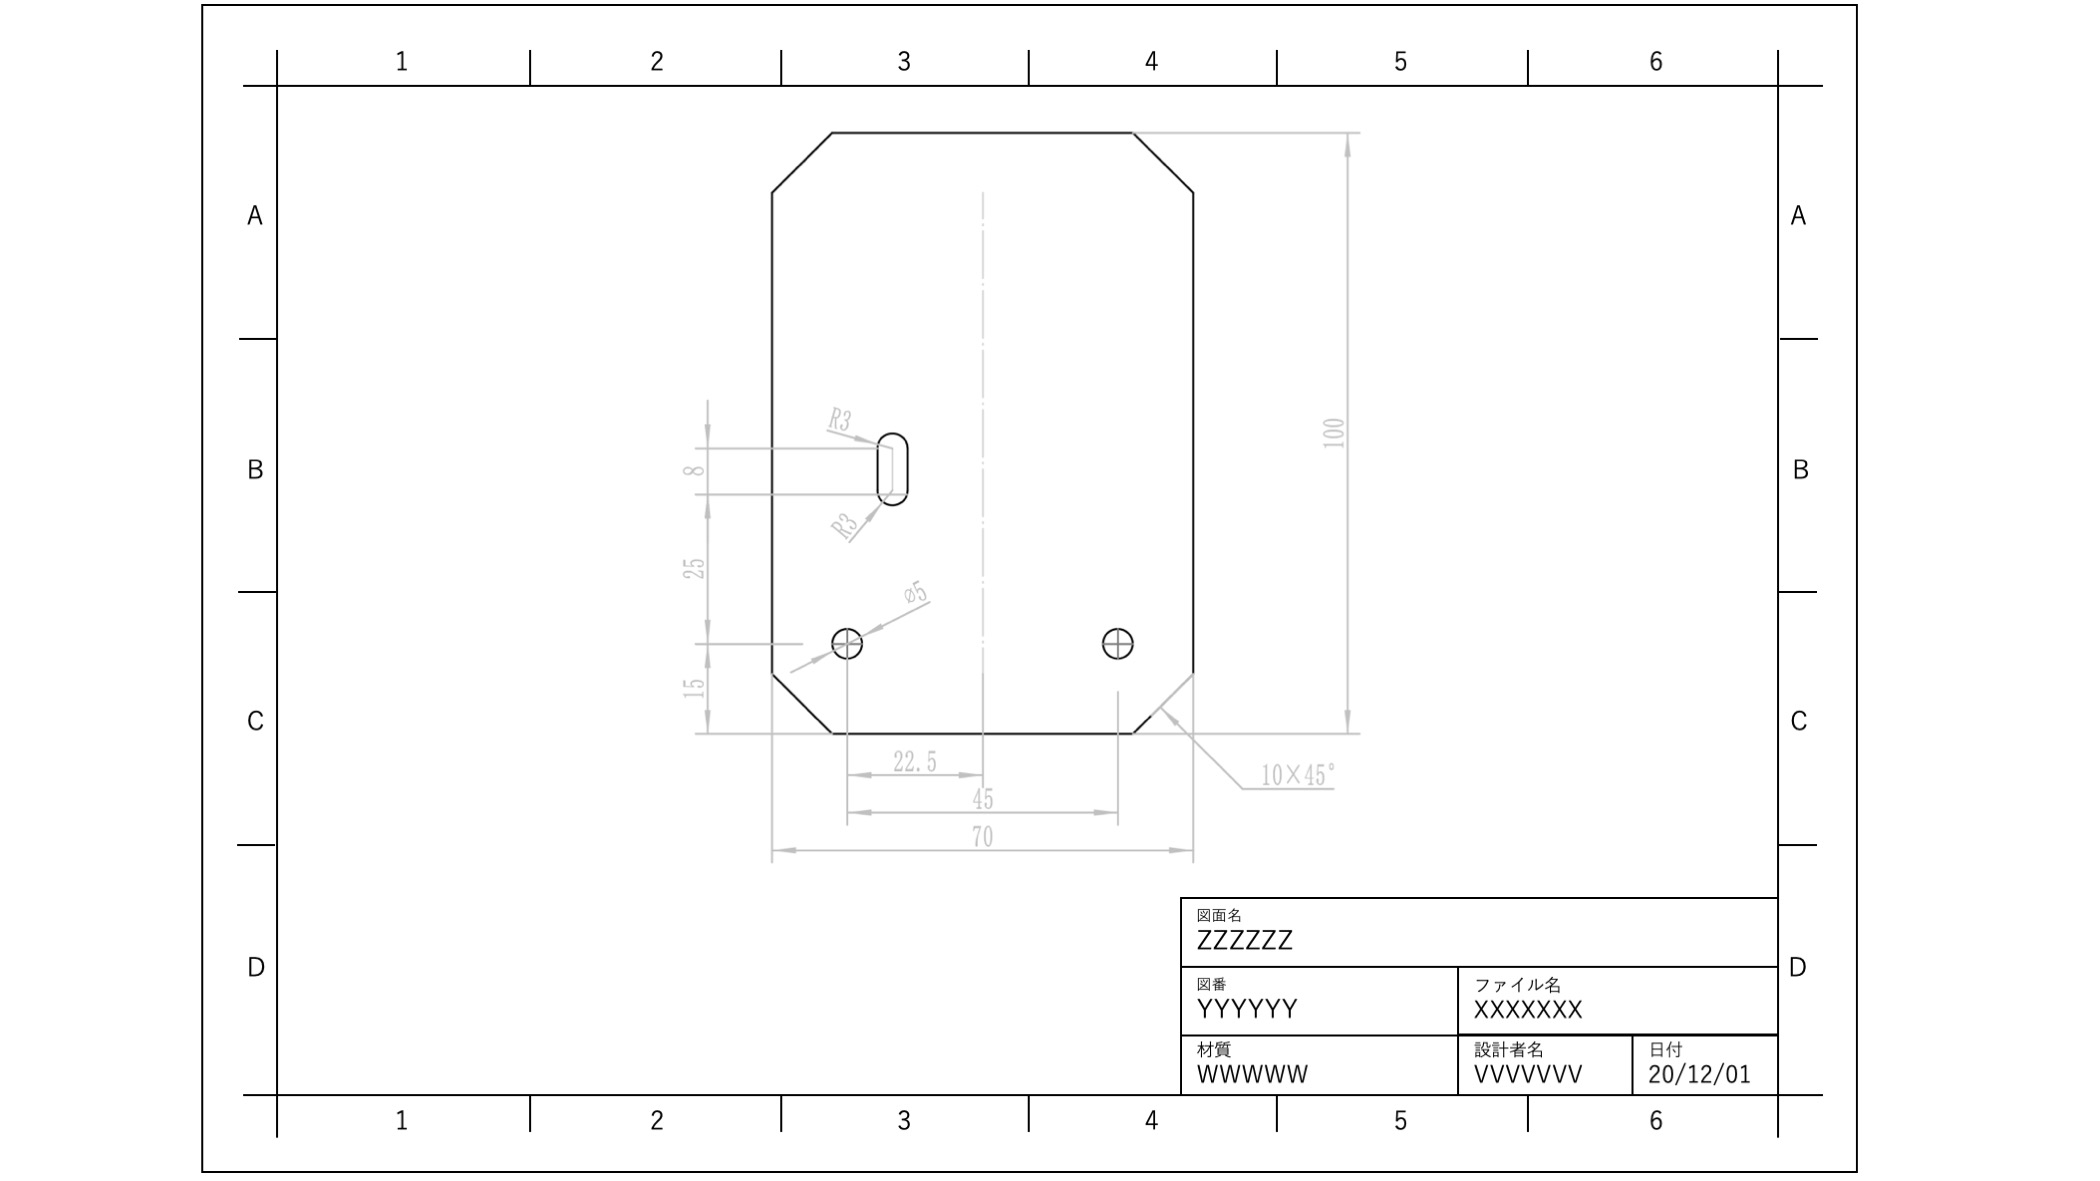circle: (824, 613, 873, 676), (1092, 611, 1141, 662)
round_rectangle: (862, 408, 914, 528)
